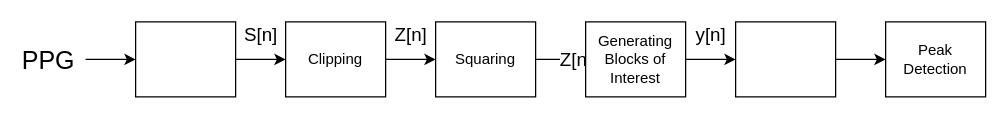
Image size: 1008x119. Some labels were removed from this diagram. Here are the shapes that lost their labels. From the top down, the box of each, then its label:
(134, 21, 236, 97): Bandpass Filter
(734, 21, 836, 97): Thresholding
